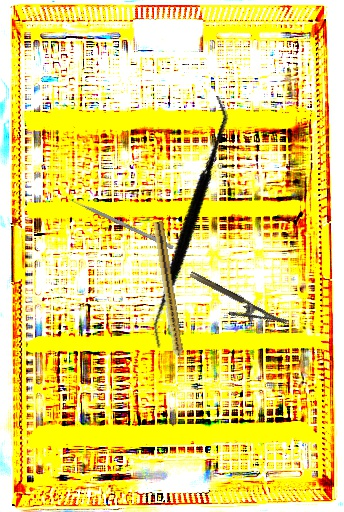Handpiece: (150, 220, 187, 373)
Needle Holder: (182, 269, 288, 341)
Pusher: (61, 194, 175, 250)
Spatula Surgical: (94, 94, 282, 350)
